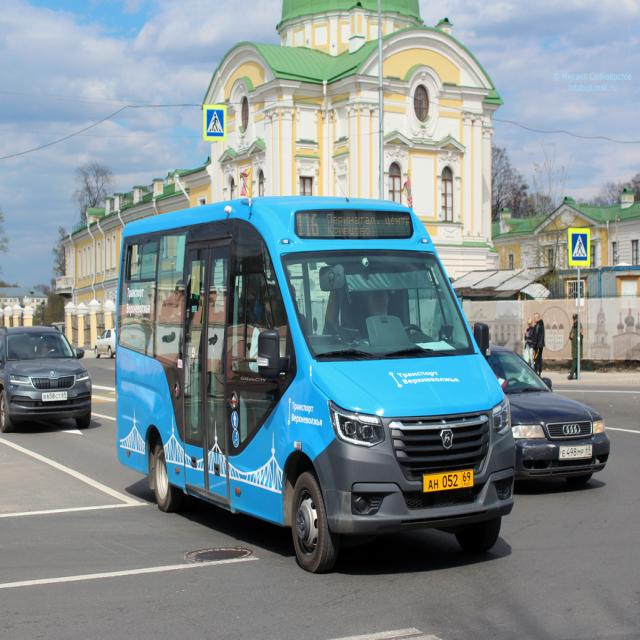number-of-bus: (297, 213, 321, 239)
